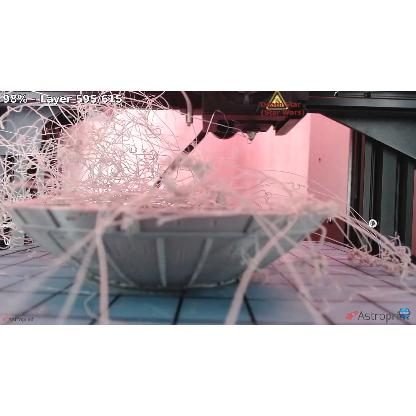fail: (0, 110, 175, 201), (335, 239, 408, 279)
